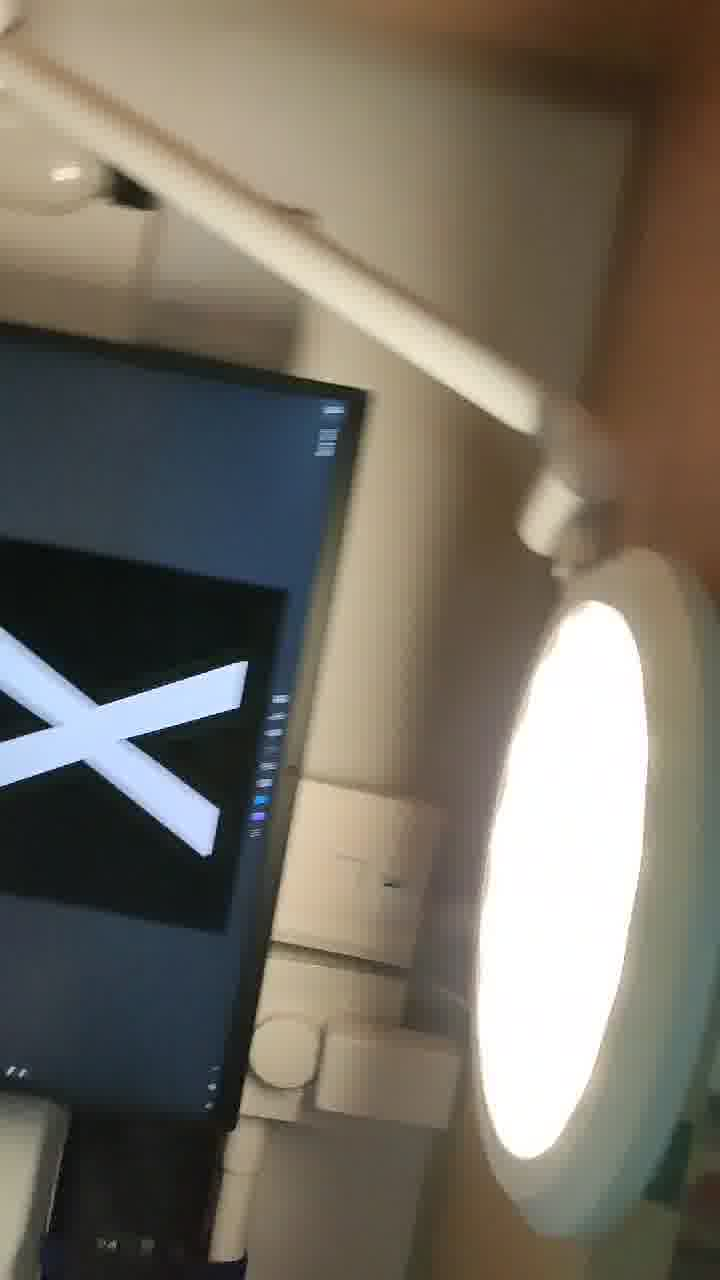X: (1, 504, 352, 983)
